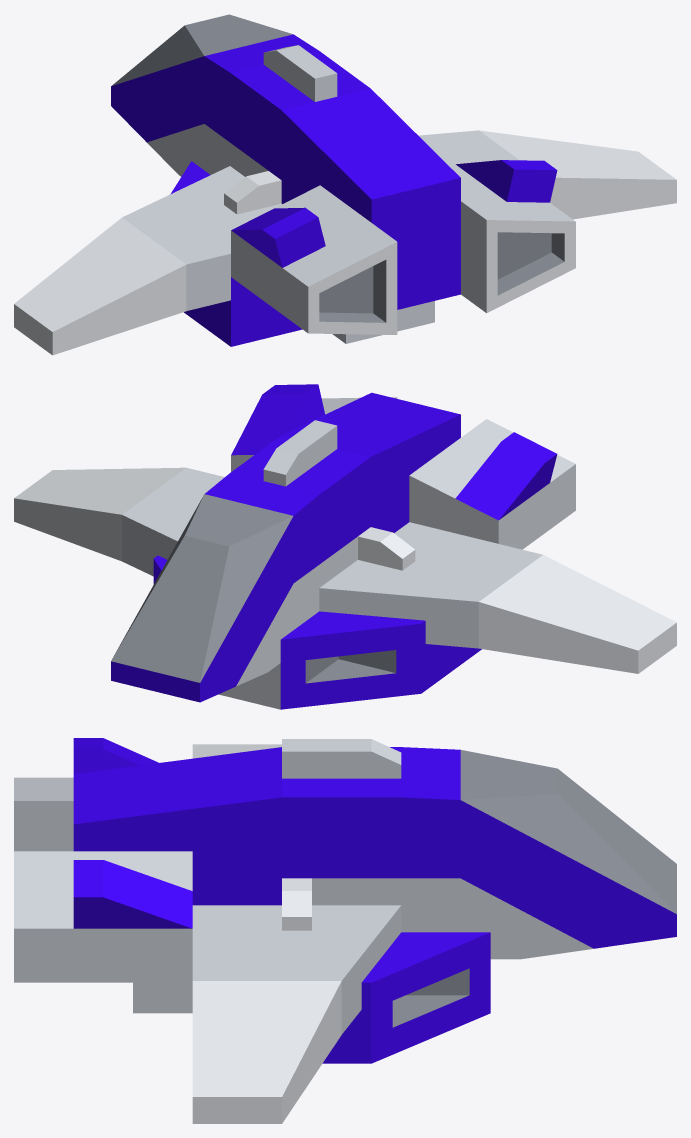
File: nave_enemiga.glb
3 views of the same model, one above another, from view 1: azimuth 30°, elevation 25°; view 2: azimuth 150°, elevation 25°; view 3: azimuth 270°, elevation 25° (orthographic). The views are drawn at different scales.
Parts seen in each view (by area): view 1: craft_speederD; view 2: craft_speederD; view 3: craft_speederD.
Part boxes in pixels (x1=…): craft_speederD: x1=14, y1=14, x2=676, y2=355; craft_speederD: x1=14, y1=384, x2=676, y2=709; craft_speederD: x1=14, y1=738, x2=676, y2=1123.
Size of the model in its own units: 2.8 by 0.9 by 2.23.
